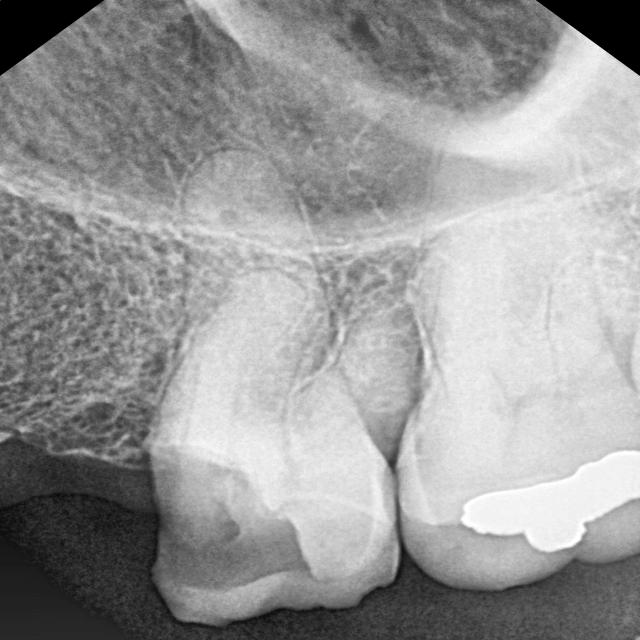Badly Decayed: (101, 409, 358, 636)
Restoration: (455, 434, 640, 576)
